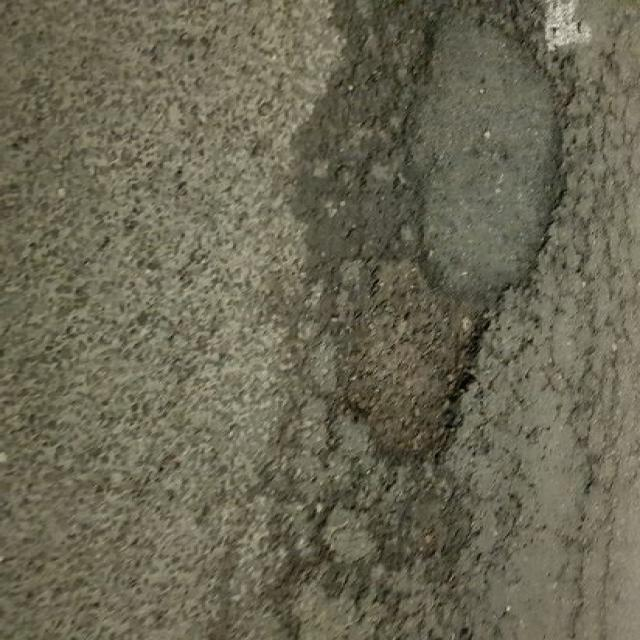Pothole: (329, 229, 483, 470)
